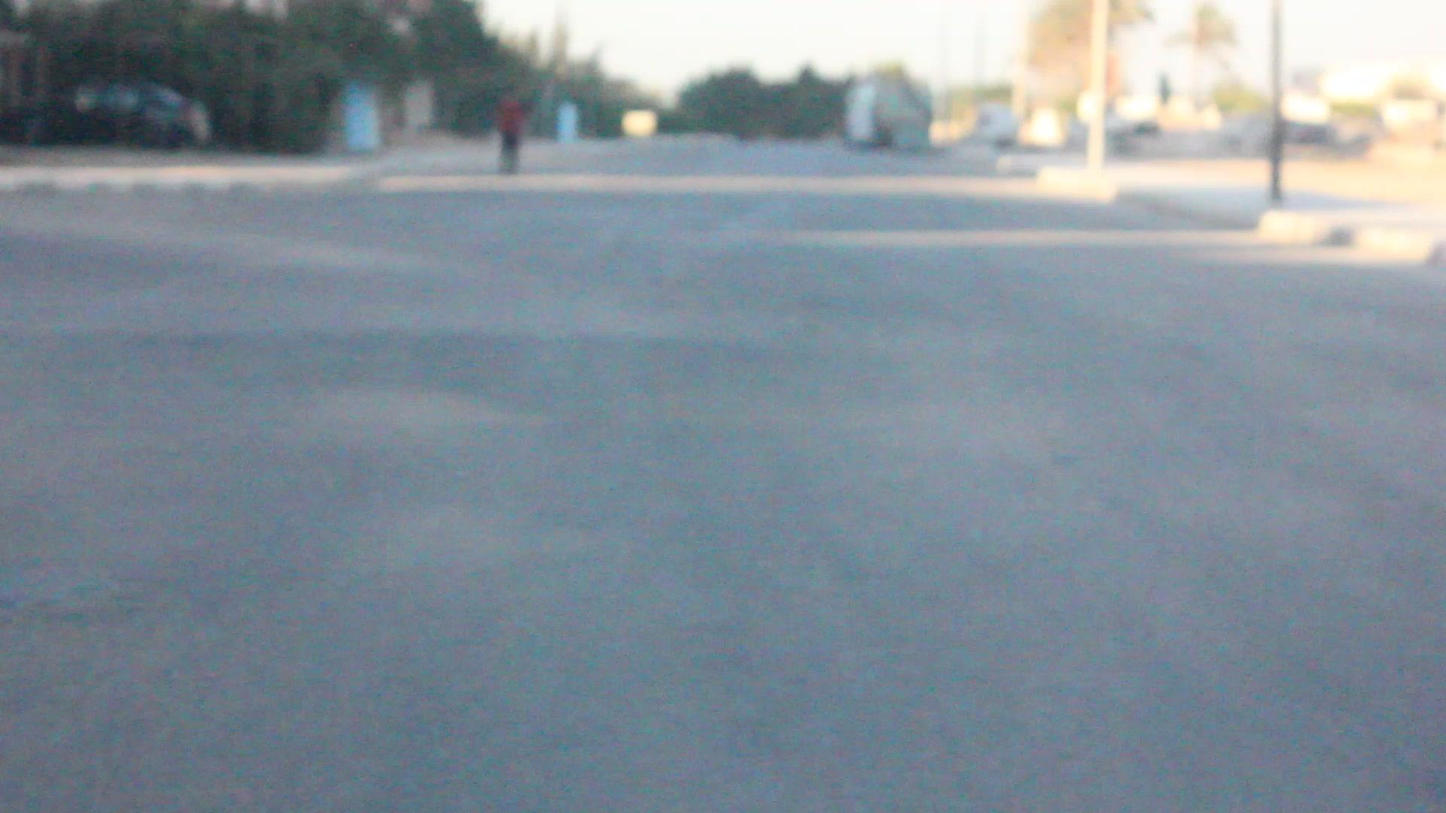Bump: (13, 329, 1348, 425)
